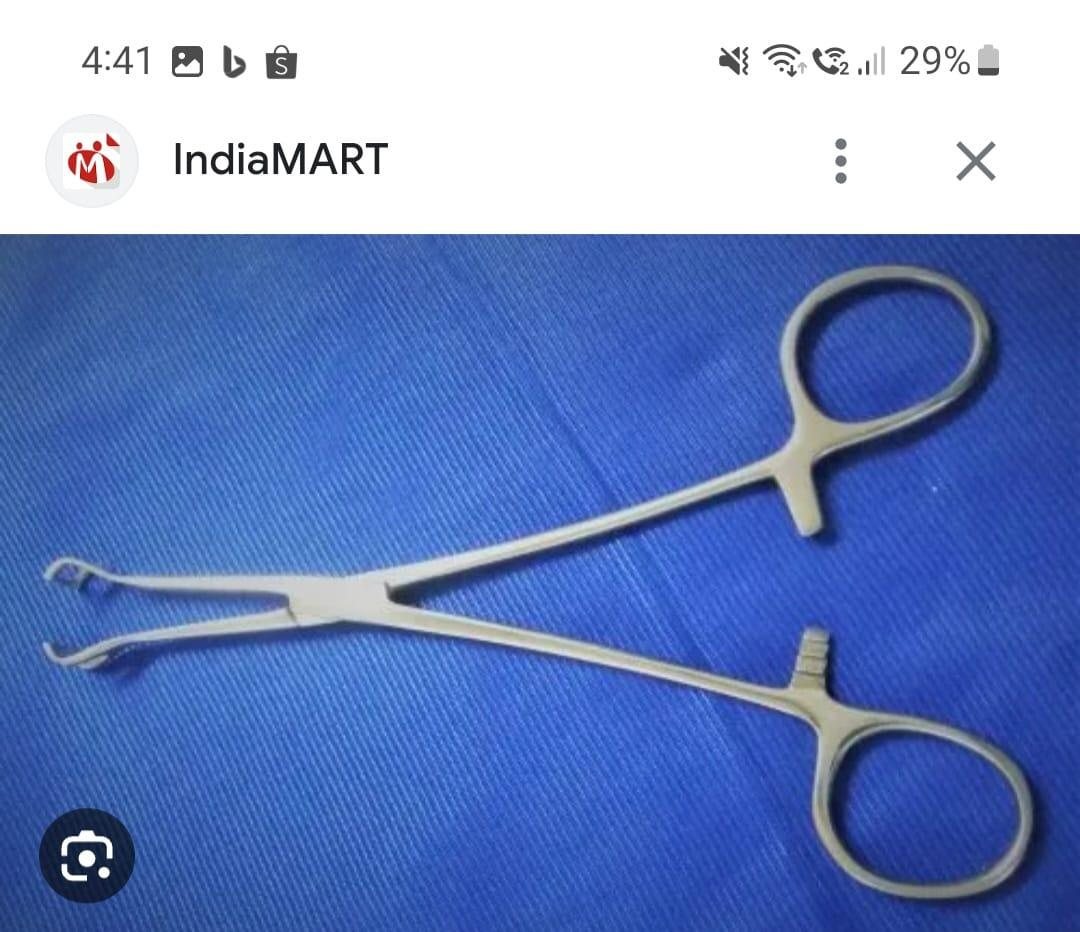Babcock Forceps: (37, 254, 1047, 910)
